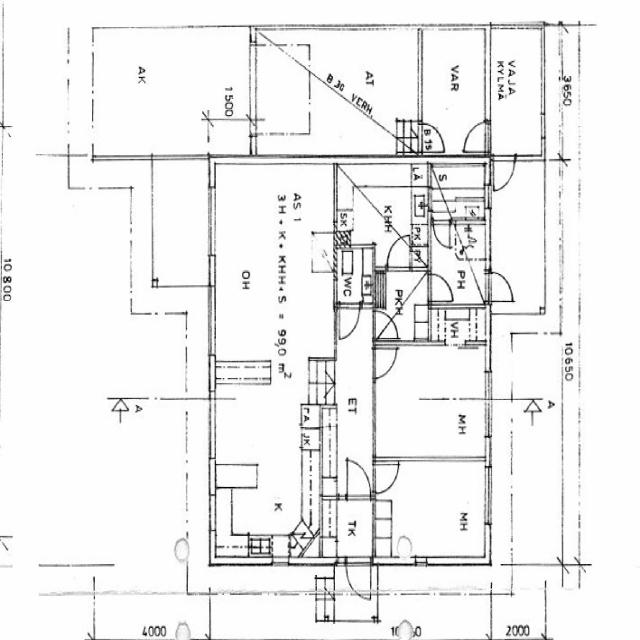door: (348, 555, 370, 596), (485, 273, 513, 302), (493, 155, 515, 191), (348, 464, 370, 500), (463, 123, 490, 152), (372, 348, 398, 378), (417, 124, 444, 152), (372, 464, 396, 494), (371, 310, 396, 338), (388, 238, 409, 271), (340, 302, 359, 334), (427, 274, 450, 300), (433, 219, 450, 247)
